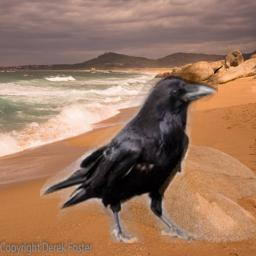Crow: (40, 73, 218, 243)
